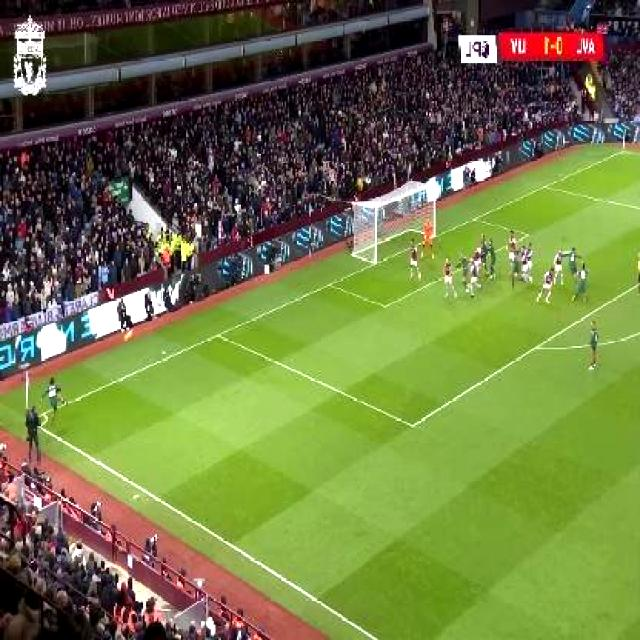bigarea_bottom_inner: (405, 411, 423, 437)
bigarea_bottom_outter: (210, 325, 228, 343)
bigarea_top_outter: (540, 178, 552, 192)
bottom_arc_area_intersection: (529, 335, 546, 357)
corner: (617, 145, 632, 157)
smallarea_bottom_inner: (377, 292, 394, 316)
smallarea_bottom_outter: (323, 274, 339, 292)
smallarea_top_inner: (522, 226, 536, 242)
smallarea_top_outter: (469, 209, 483, 226)
